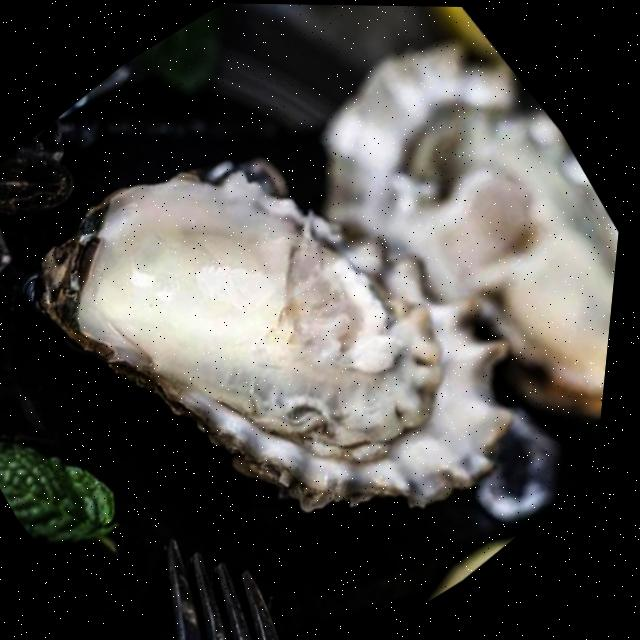Oyster-Open: (0, 46, 595, 640), (232, 4, 640, 518)
